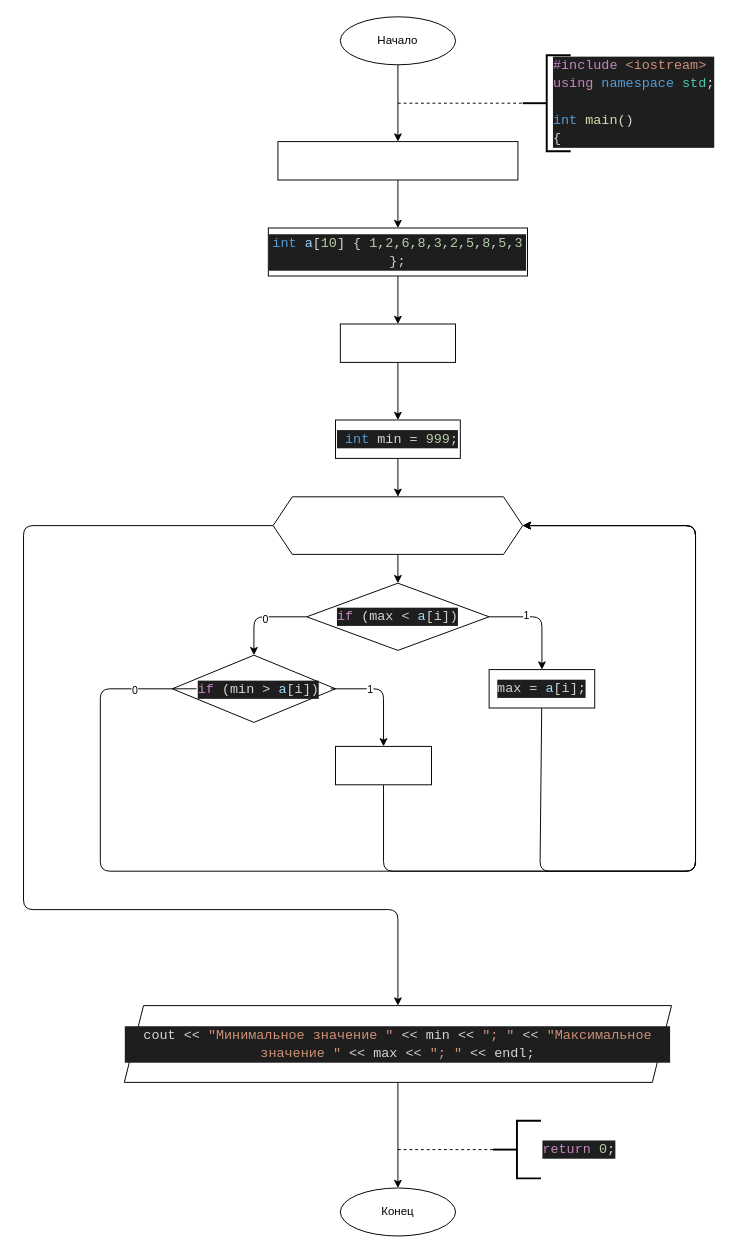
Image size: 741x1253. Some labels were removed from this diagram. The shapes that lost their labels are listed below. From the top down, each one's box as (x1, y1, x2, y2) in pixels, then its label:
(277, 141, 518, 180): setlocale (LC_ALL, "Russian" );
(339, 323, 456, 362): int max = 1 ;
(272, 496, 523, 554): for ( int i = 0 ; i < 10 ; i++)
(335, 745, 432, 785): min = a [i];
